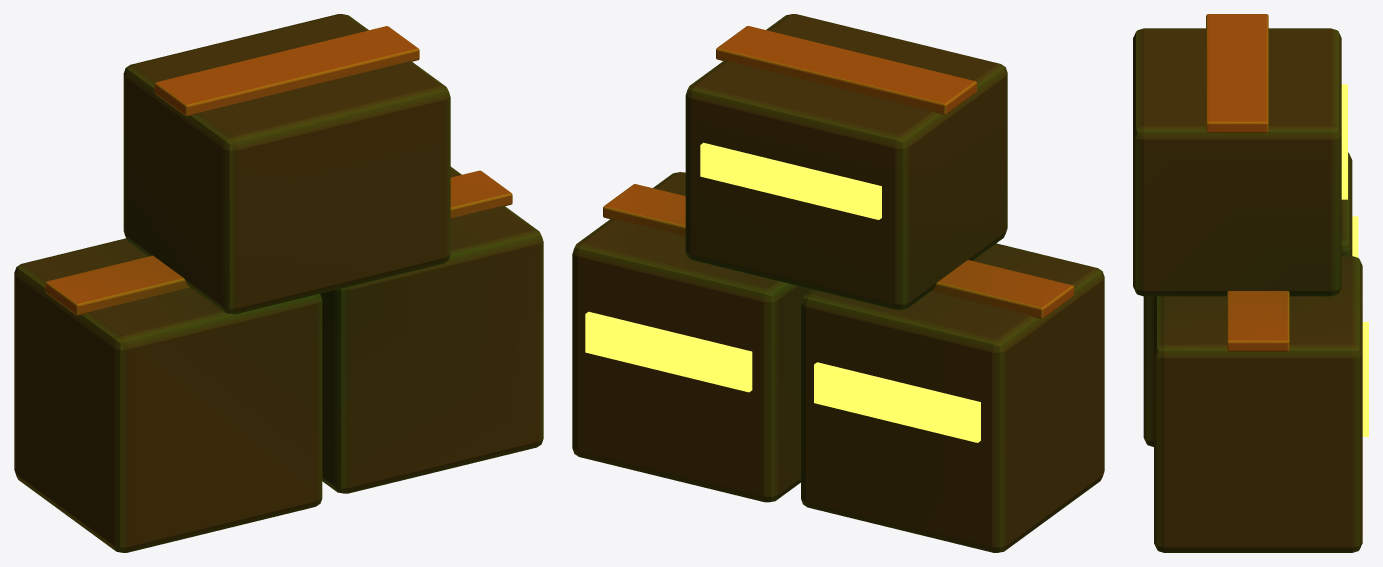
File: cargo_stack.glb
The picture shows the model from 3 angles, left to right: view 1: azimuth 30°, elevation 25°; view 2: azimuth 150°, elevation 25°; view 3: azimuth 270°, elevation 25°; orthographic projection. The views are drawn at different scales.
Parts seen in each view (by area): view 1: cargo_stack; view 2: cargo_stack; view 3: cargo_stack.
Boxes of the visible parts, box(x1,y1,x2,y2) form: cargo_stack: box(14, 14, 543, 552); cargo_stack: box(572, 14, 1104, 552); cargo_stack: box(1133, 14, 1368, 552).
Bounding box in the file's own units: 2.34 × 2.05 × 1.13.
